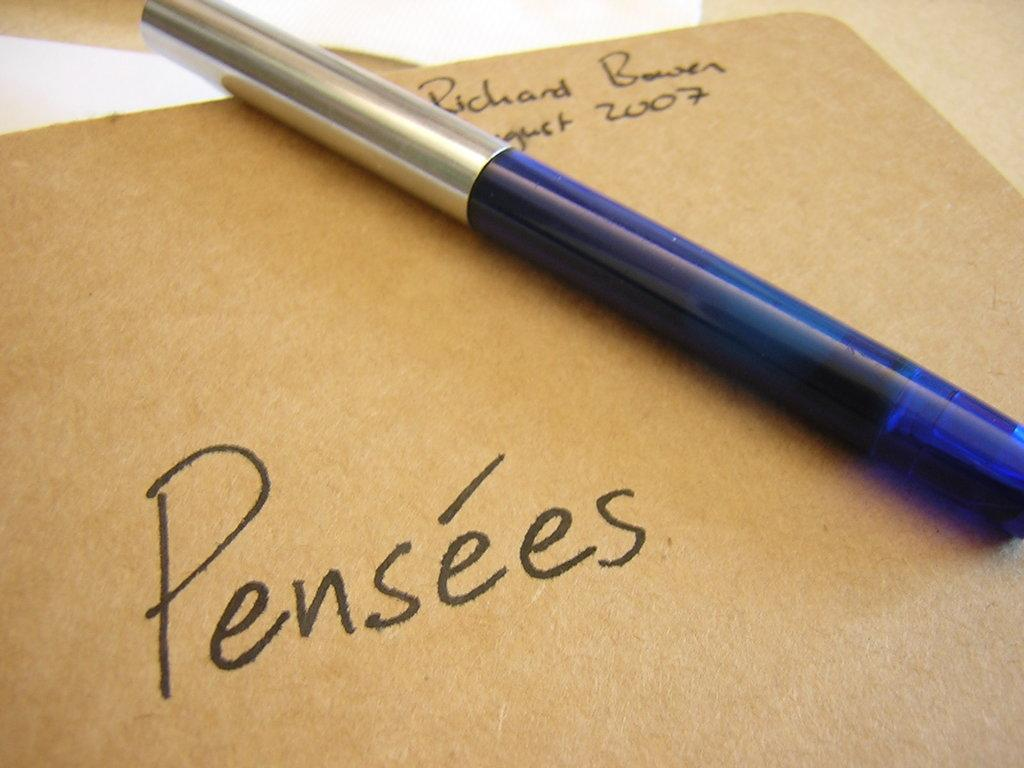pen: (143, 0, 1023, 534)
